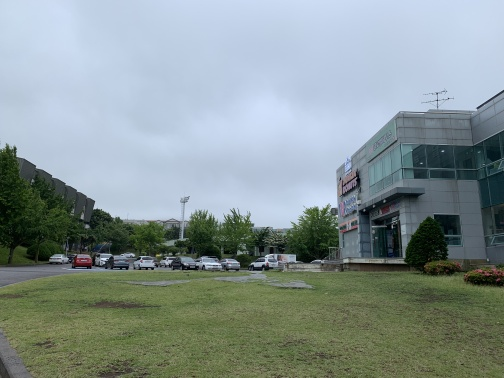Global House: (321, 101, 502, 274)
